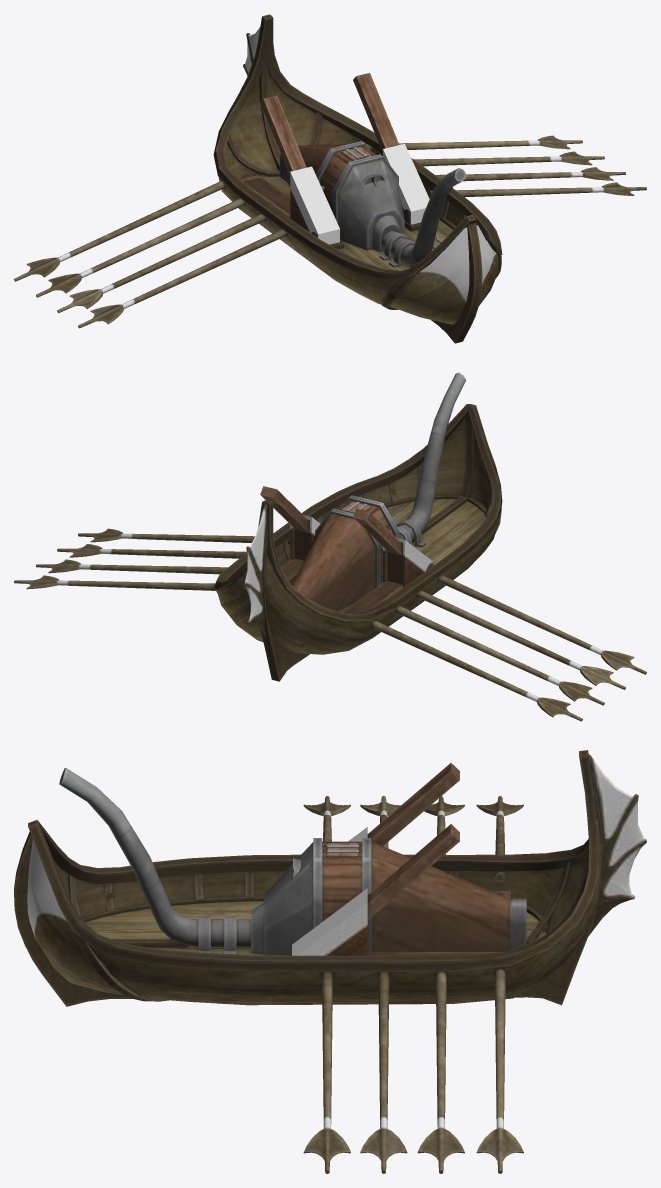
Rendered from 251-fireship.glb.
3 renders of one model, top to bottom at view 1: azimuth 30°, elevation 25°; view 2: azimuth 150°, elevation 25°; view 3: azimuth 270°, elevation 25°, orthographic. The views are drawn at different scales.
Size of the model in its own units: 7.96 by 2.49 by 5.68.
Materials: 1 (1 with a texture image).
